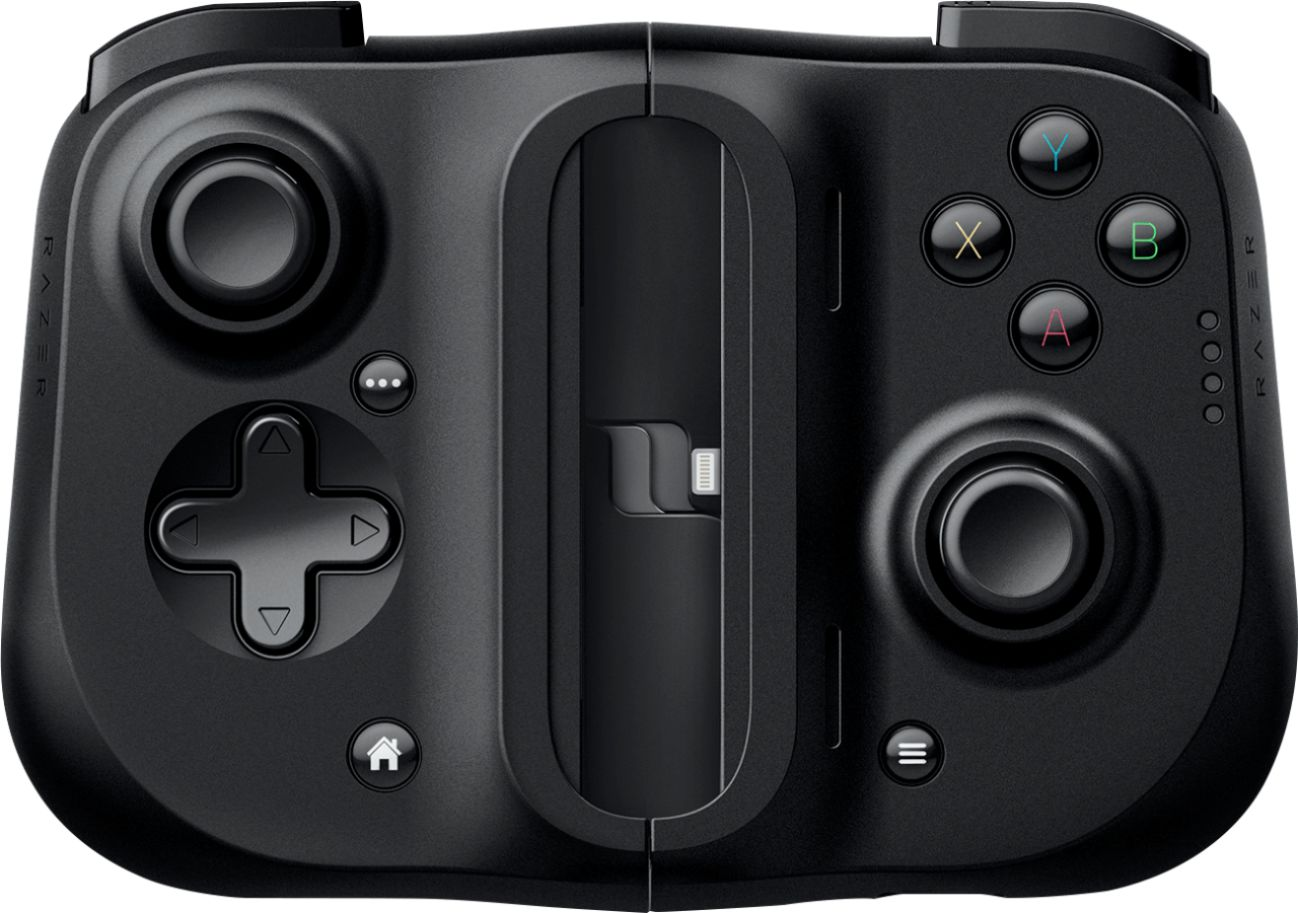controller: (1, 4, 1298, 913)
